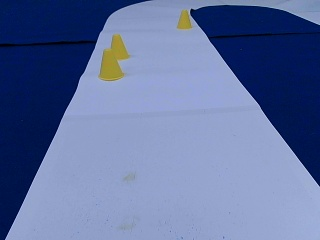cone: (98, 49, 123, 80), (109, 35, 129, 59), (177, 9, 191, 29)
